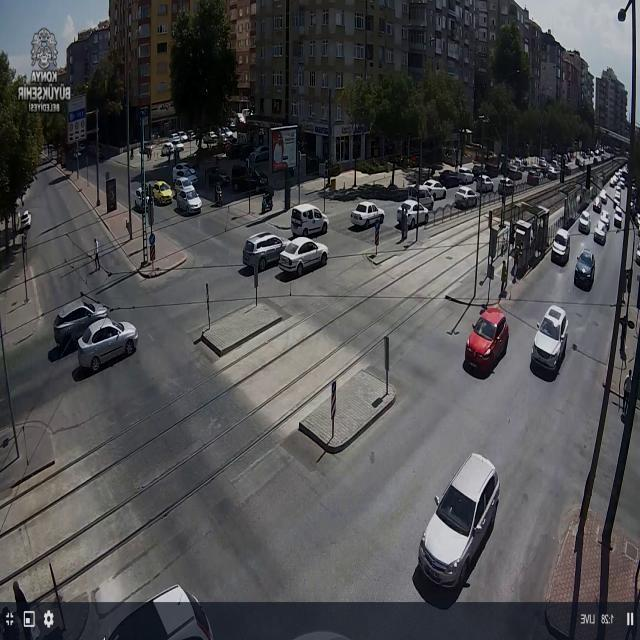Car: (412, 444, 509, 587), (95, 586, 215, 638), (69, 312, 142, 370), (464, 306, 511, 376), (532, 304, 570, 371), (47, 298, 102, 343), (278, 237, 328, 276), (242, 231, 288, 270), (291, 204, 328, 237), (230, 164, 272, 193), (396, 200, 432, 229), (350, 200, 386, 228), (574, 249, 597, 289), (402, 186, 436, 210), (175, 187, 203, 214), (551, 230, 570, 265), (573, 146, 605, 166), (151, 180, 174, 206), (418, 179, 446, 200), (454, 186, 480, 207), (206, 166, 231, 187), (224, 140, 252, 158), (134, 186, 153, 212), (435, 170, 462, 188), (172, 164, 197, 183), (174, 175, 198, 193), (593, 219, 608, 244), (452, 169, 474, 185), (474, 175, 494, 192), (249, 145, 269, 162), (162, 140, 184, 155), (578, 211, 592, 234), (498, 177, 516, 194), (481, 162, 500, 178), (18, 210, 31, 230), (527, 172, 543, 186), (592, 195, 604, 213), (171, 130, 189, 142), (532, 160, 549, 172), (599, 209, 610, 227), (202, 133, 218, 145), (218, 126, 234, 138), (613, 210, 623, 228), (507, 168, 522, 180), (545, 166, 559, 178), (576, 154, 590, 166), (598, 192, 608, 208), (472, 164, 486, 175), (508, 161, 520, 173), (612, 192, 622, 206), (549, 160, 560, 172), (610, 175, 618, 188), (186, 130, 196, 140)
